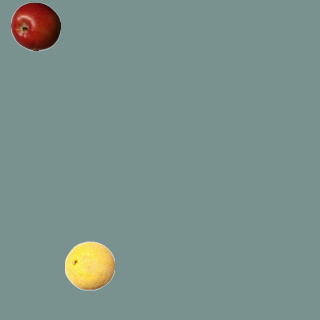Apple Braeburn: (10, 1, 60, 51)
Cantaloupe 1: (64, 240, 114, 290)
